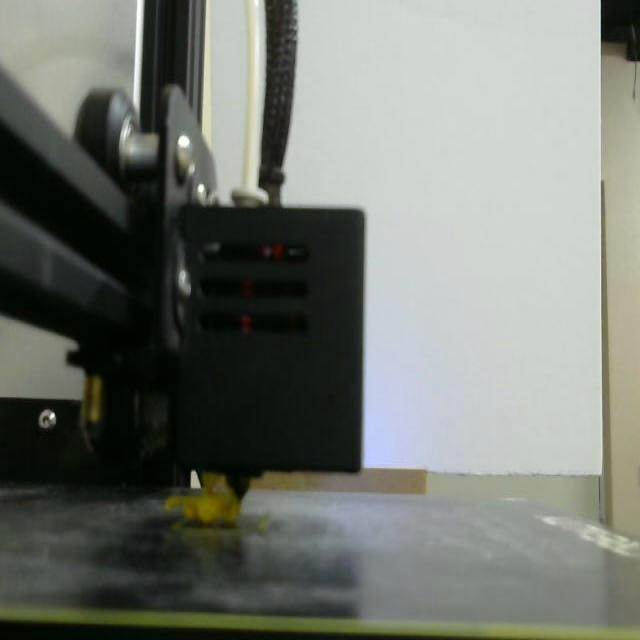spaghetti: (165, 473, 241, 524)
